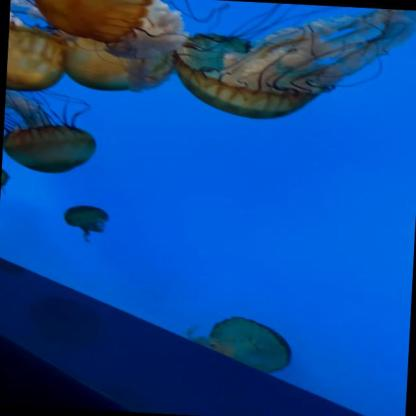jellyfish: (28, 0, 160, 46), (1, 172, 10, 190)
stingray: (171, 30, 343, 125), (46, 0, 195, 94), (2, 118, 100, 177), (205, 315, 295, 375), (6, 21, 75, 96), (60, 202, 111, 230), (1, 164, 10, 190)
